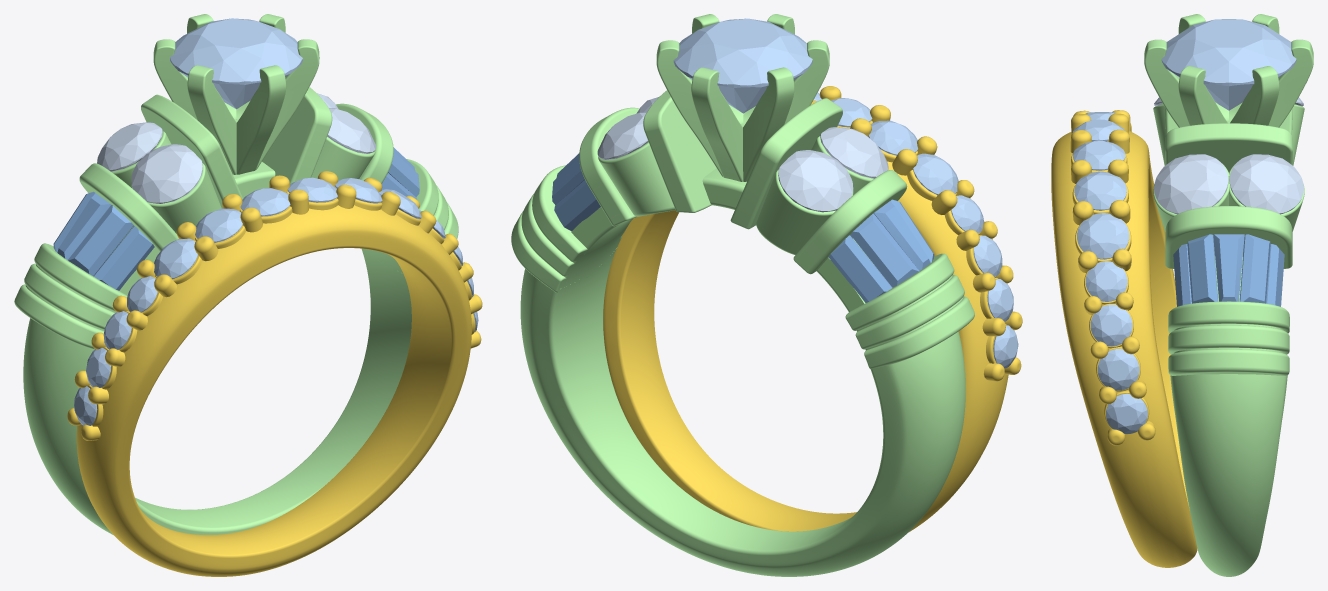
3 views of the same model, side by side, from view 1: azimuth 30°, elevation 25°; view 2: azimuth 150°, elevation 25°; view 3: azimuth 270°, elevation 25° (orthographic). The views are drawn at different scales.
Visible parts, largest first — view 1: ZB-319 - Beth Dobbs.3dm, Diamond_Round (×13), Bezel (×2), Custom_Baguette_v1.0_Length3.600000_BottomWidth1.500000_TopW (×2), Diamond_Baguette Straight, Custom_Baguette_v1.0_Length3.600000_BottomWidth0.900000_TopW; view 2: ZB-319 - Beth Dobbs.3dm, Diamond_Round (×11), Bezel (×2), Diamond_Baguette Straight (×2), Custom_Baguette_v1.0_Length3.600000_BottomWidth1.500000_TopW (×2), Custom_Baguette_v1.0_Length3.600000_BottomWidth0.900000_TopW; view 3: ZB-319 - Beth Dobbs.3dm, Diamond_Round (×11), Custom_Baguette_v1.0_Length3.600000_BottomWidth1.500000_TopW (×2), Prong (×5), Diamond_Baguette Straight (×2), Custom_Baguette_v1.0_Length3.600000_BottomWidth0.900000_TopW, Bezel (×4).
Part boxes in pixels (x1,y1,x2,y2): ZB-319 - Beth Dobbs.3dm: (14, 14, 471, 576); Diamond_Round (×13): (74, 18, 382, 425); Bezel (×2): (131, 136, 375, 233); Custom_Baguette_v1.0_Length3.600000_BottomWidth1.500000_TopW (×2): (67, 152, 419, 276); Diamond_Baguette Straight: (93, 226, 154, 290); Custom_Baguette_v1.0_Length3.600000_BottomWidth0.900000_TopW: (57, 193, 111, 259); ZB-319 - Beth Dobbs.3dm: (511, 14, 1008, 576); Diamond_Round (×11): (597, 18, 1018, 368); Bezel (×2): (598, 142, 853, 255); Diamond_Baguette Straight (×2): (554, 180, 892, 302); Custom_Baguette_v1.0_Length3.600000_BottomWidth1.500000_TopW (×2): (552, 158, 919, 287); Custom_Baguette_v1.0_Length3.600000_BottomWidth0.900000_TopW: (873, 201, 930, 270); ZB-319 - Beth Dobbs.3dm: (1051, 14, 1313, 576); Diamond_Round (×11): (1073, 19, 1303, 433); Custom_Baguette_v1.0_Length3.600000_BottomWidth1.500000_TopW (×2): (1187, 234, 1270, 303); Prong (×5): (1071, 129, 1130, 225); Diamond_Baguette Straight (×2): (1173, 244, 1284, 306); Custom_Baguette_v1.0_Length3.600000_BottomWidth0.900000_TopW: (1213, 234, 1244, 301); Bezel (×4): (1153, 104, 1304, 231).
Bounding box in the file's own units: 2.47 × 2.86 × 1.31.
